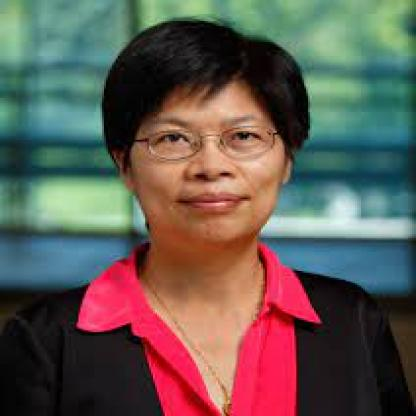person: (107, 13, 315, 255)
